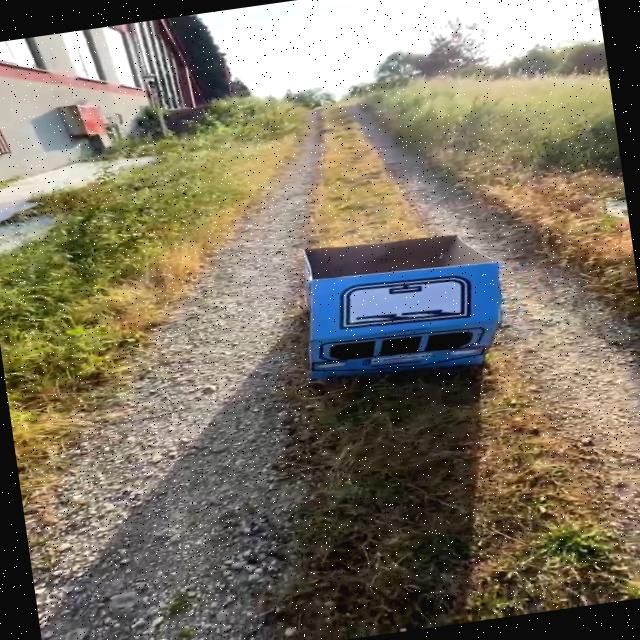blue_car: (225, 189, 540, 417)
